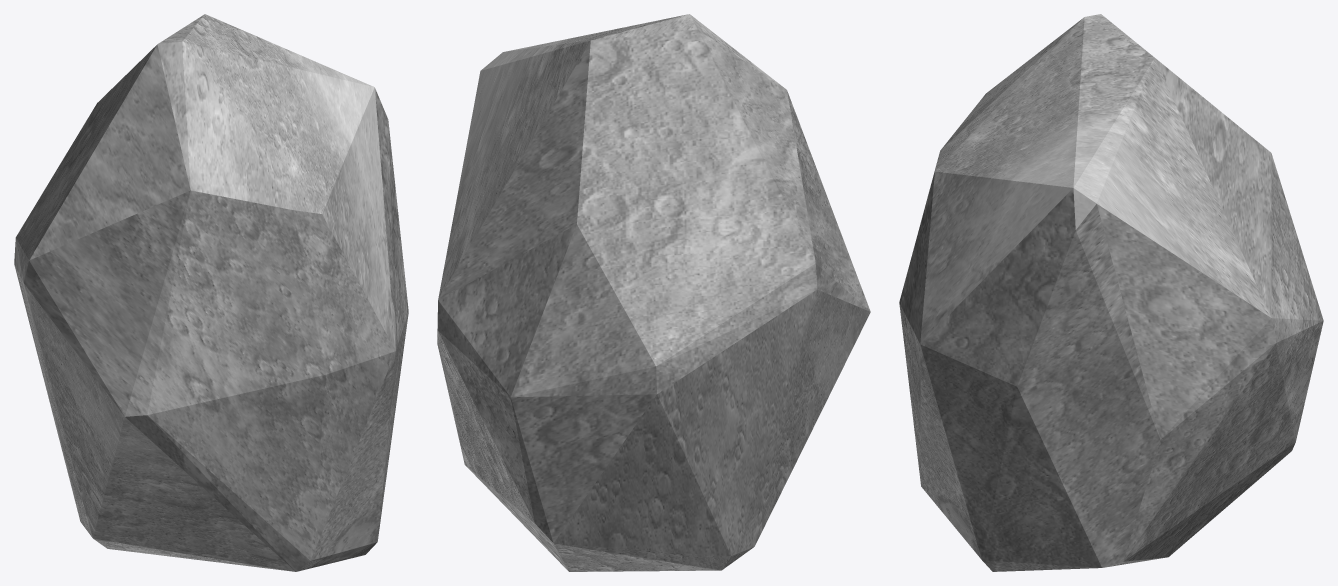
Rendered from rocaluna.fbx.
3 views of the same model, side by side, from view 1: azimuth 30°, elevation 25°; view 2: azimuth 150°, elevation 25°; view 3: azimuth 270°, elevation 25° (orthographic). The views are drawn at different scales.
Visible parts, largest first — view 1: Esfera; view 2: Esfera; view 3: Esfera.
Part boxes in pixels (x1,y1,x2,y2): Esfera: [14, 14, 408, 571]; Esfera: [437, 14, 870, 571]; Esfera: [899, 14, 1323, 571].
Size of the model in its own units: 348 by 506 by 385.
Materials: 1 (1 with a texture image).
